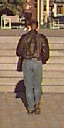person: (7, 15, 51, 112)
